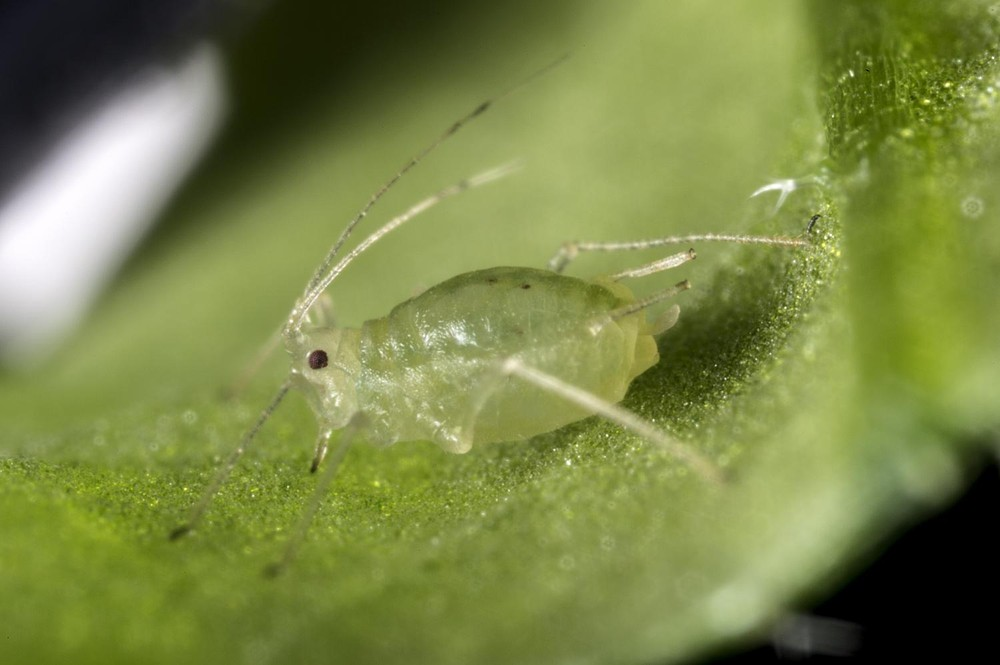Pulgon: (215, 195, 759, 509)
